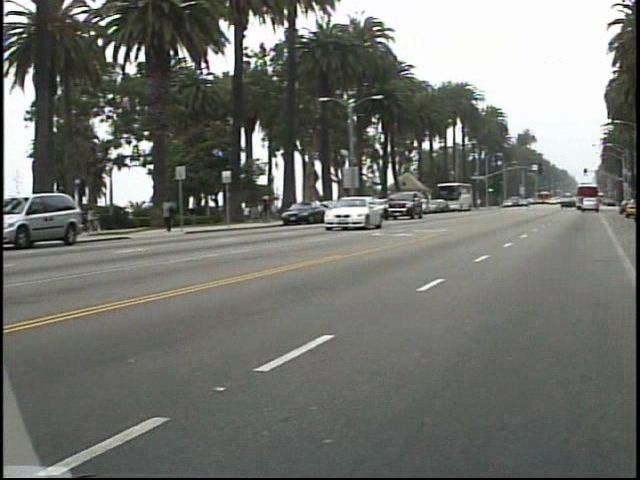person: (166, 194, 187, 233), (265, 189, 284, 224)
